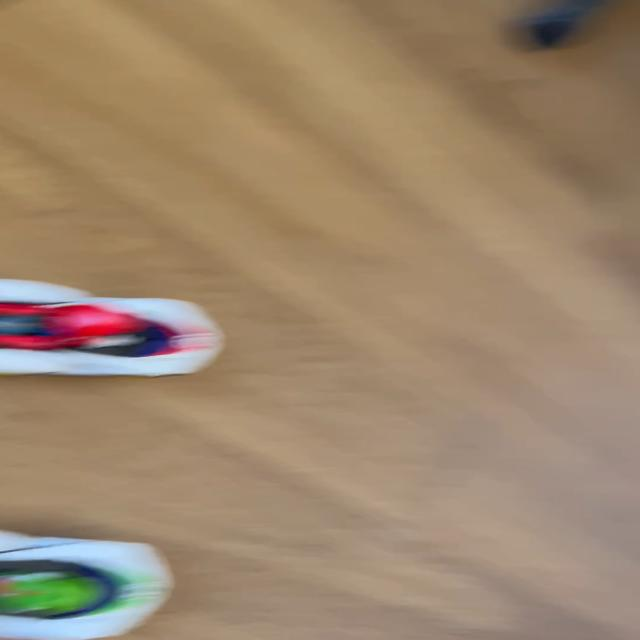mario: (3, 284, 248, 395)
yoshi: (0, 515, 199, 636)
